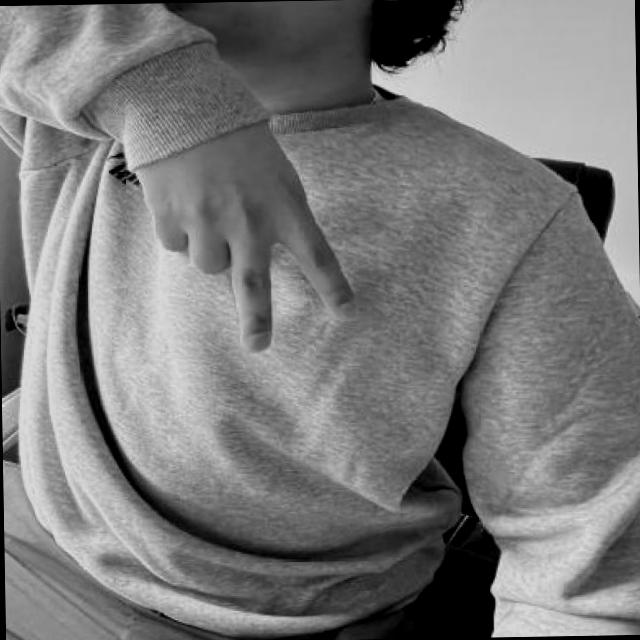N: (124, 100, 369, 366)
